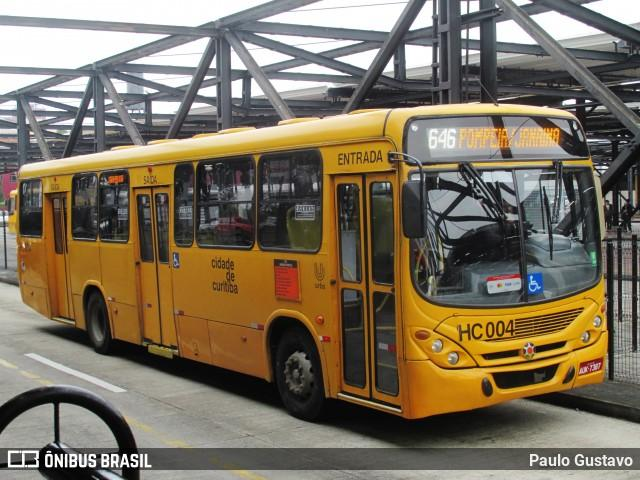POMPEIA JANAINA: (455, 125, 563, 152)
